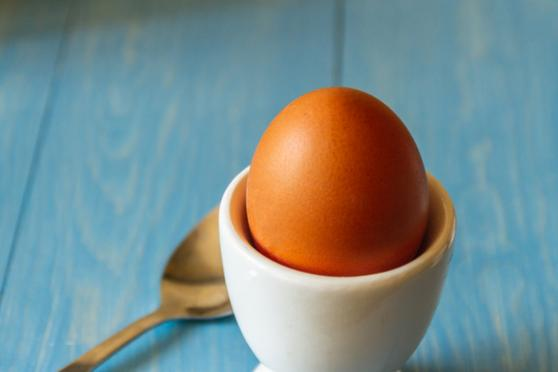egg: (244, 82, 434, 278)
